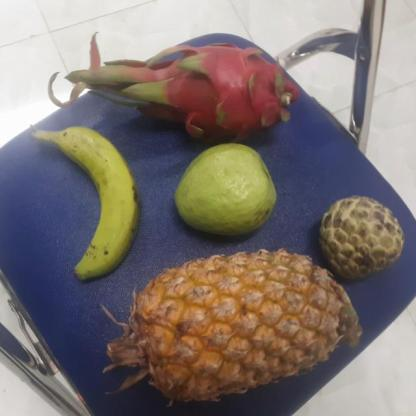annona: (312, 198, 404, 282)
banana: (44, 126, 139, 276)
guava: (168, 147, 277, 238)
pineapple: (112, 252, 350, 396)
pitaya: (150, 41, 287, 145)
